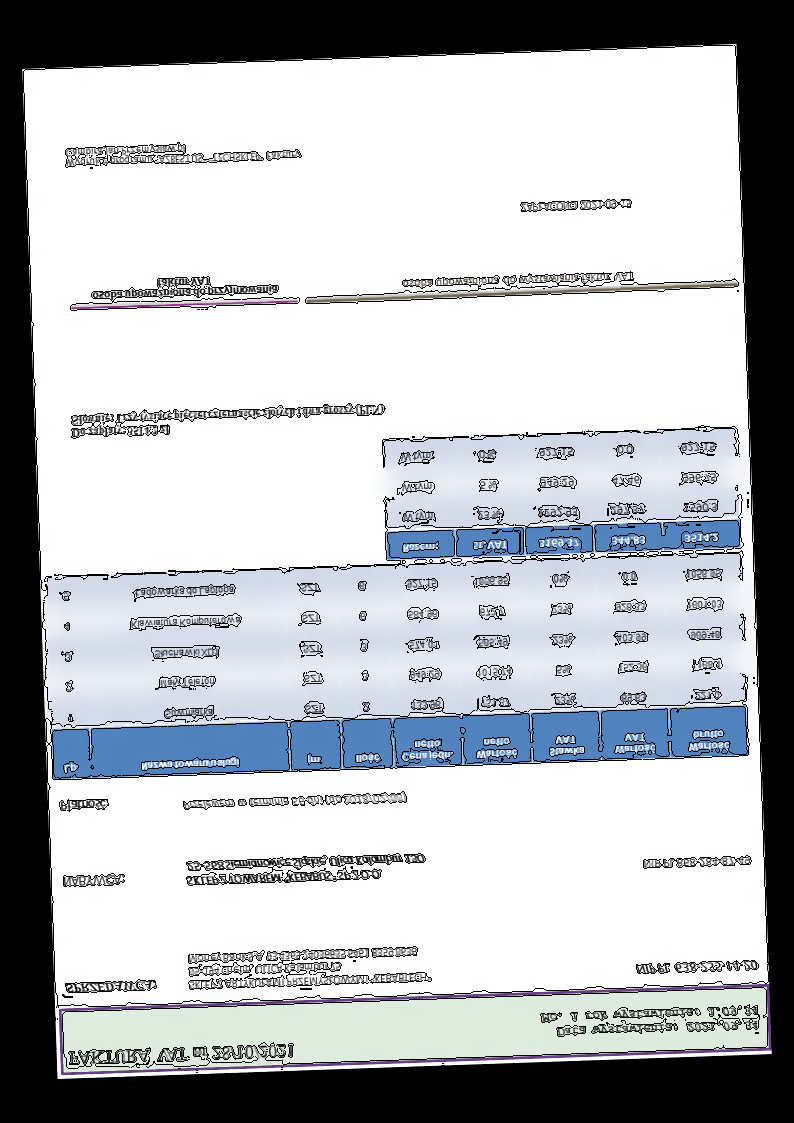Table: (44, 551, 750, 781), (381, 426, 742, 561)
TextBox: (185, 943, 433, 993), (68, 401, 385, 440), (183, 851, 426, 887), (538, 1002, 760, 1040), (63, 138, 303, 170), (66, 1041, 296, 1068), (89, 272, 281, 304), (181, 789, 407, 814), (400, 269, 635, 293), (633, 957, 759, 977), (518, 197, 631, 215), (641, 854, 752, 870), (63, 978, 158, 995), (60, 872, 126, 889), (58, 797, 111, 813)
